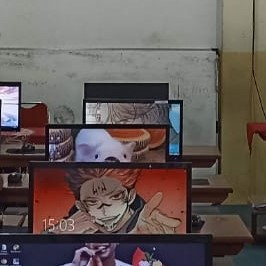monitor: (28, 161, 193, 235), (44, 117, 183, 162), (0, 82, 22, 132)
